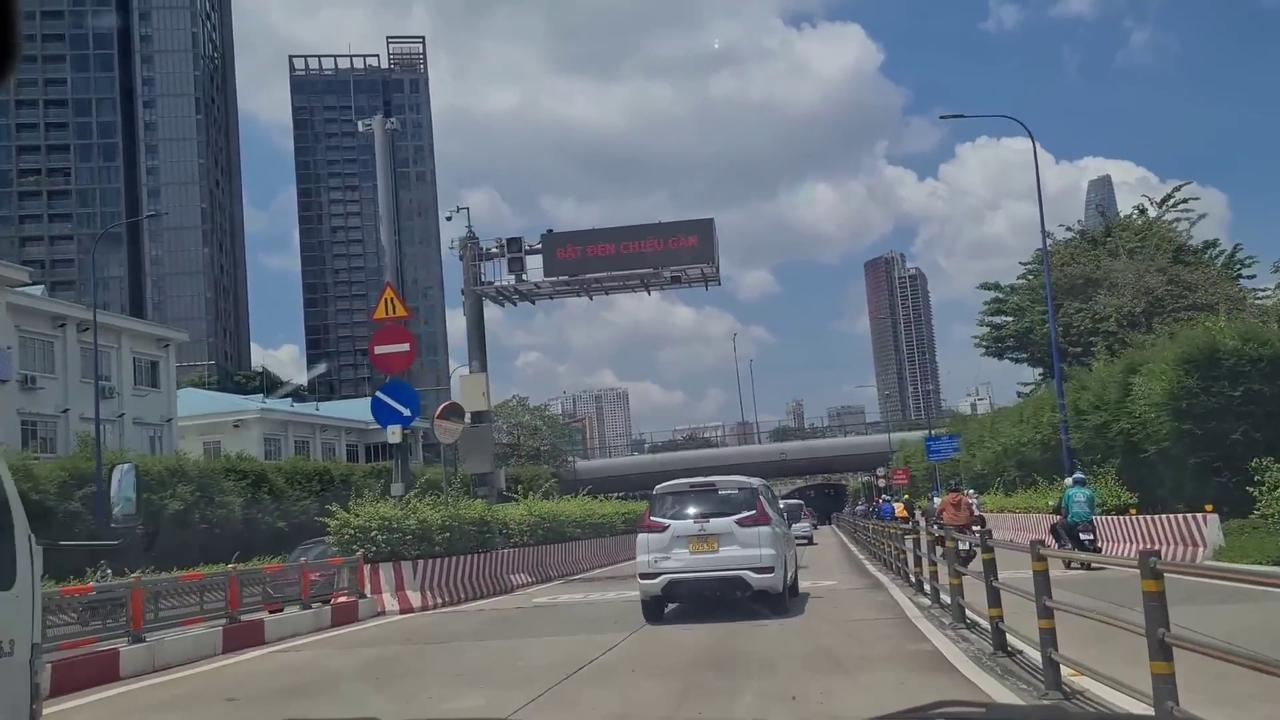Cấm đi ngược chiều: (368, 323, 417, 377)
Hướng phải đi vòng sang phải: (371, 379, 420, 428)
Đuờng hẹp: (368, 279, 412, 322)
